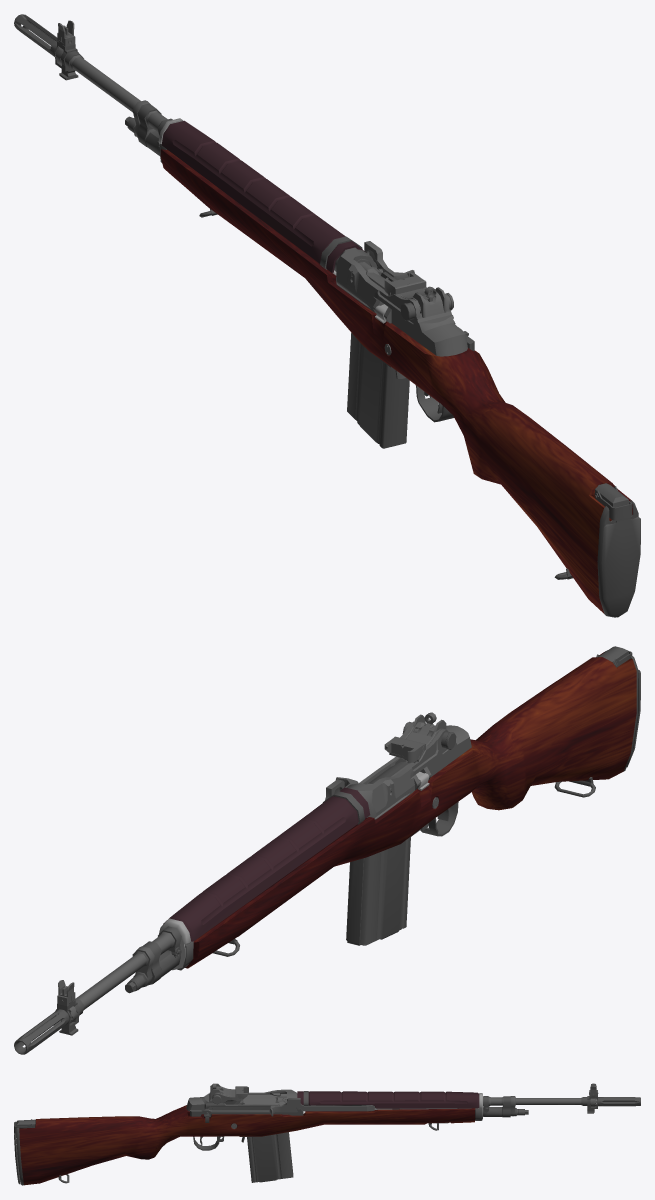
3 views of the same model, one above another, from view 1: azimuth 30°, elevation 25°; view 2: azimuth 150°, elevation 25°; view 3: azimuth 270°, elevation 25° (orthographic). The views are drawn at different scales.
Parts seen in each view (by area): view 1: stock.001, handguard, receiver, mag, buttplate.001, barrel, flash_hider, buttplate; view 2: stock.001, handguard, mag, receiver, flash_hider, barrel, gas_cylinder, clip_guide, buttplate; view 3: stock.001, handguard, mag, receiver, oprod, barrel, flash_hider, gas_cylinder, bolt, connector_rod, buttplate, buttplate.001.
Boxes of the visible parts, box(x1,y1,x2,y2) form: stock.001: box(160, 149, 632, 613); handguard: box(161, 120, 365, 272); receiver: box(336, 248, 467, 356); mag: box(347, 333, 409, 448); buttplate.001: box(594, 486, 640, 617); barrel: box(69, 55, 370, 271); flash_hider: box(14, 14, 83, 80); buttplate: box(595, 483, 638, 617); stock.001: box(185, 652, 636, 968); handguard: box(163, 787, 370, 941); mag: box(346, 837, 410, 945); receiver: box(346, 721, 471, 819); flash_hider: box(14, 999, 84, 1054); barrel: box(75, 931, 174, 1010); gas_cylinder: box(142, 926, 181, 985); clip_guide: box(384, 737, 423, 762); buttplate: box(598, 646, 638, 771); stock.001: box(19, 1105, 475, 1185); handguard: box(297, 1091, 479, 1108); mag: box(247, 1132, 293, 1182); receiver: box(186, 1086, 296, 1117); oprod: box(269, 1098, 457, 1116); barrel: box(297, 1093, 596, 1106); flash_hider: box(582, 1094, 640, 1113); gas_cylinder: box(458, 1096, 510, 1117); bolt: box(241, 1094, 286, 1105); connector_rod: box(190, 1108, 303, 1116); buttplate: box(16, 1119, 35, 1185); buttplate.001: box(14, 1119, 34, 1184).
Size of the model in its own units: 7.02 by 20.26 by 114.
